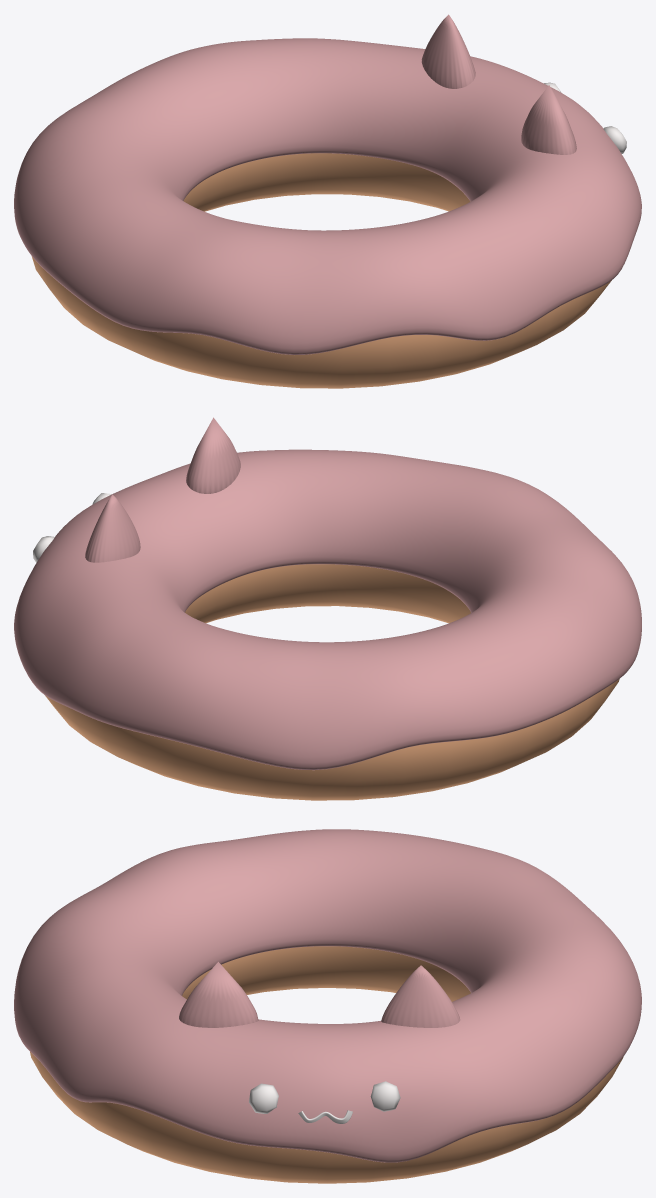
Rendered from catdonutorange2.fbx.
3 renders of one model, top to bottom at view 1: azimuth 30°, elevation 25°; view 2: azimuth 150°, elevation 25°; view 3: azimuth 270°, elevation 25°, orthographic.
Visible parts, largest first — view 1: Torus.001, Torus.003, Cone.001, Cone; view 2: Torus.001, Torus.003, Cone, Cone.001; view 3: Torus.001, Torus.003, Cone, Cone.001, Cube, Cube.001.
Boxes of the visible parts, bbox=[...] form: Torus.001: bbox=[14, 38, 641, 354]; Torus.003: bbox=[31, 153, 611, 388]; Cone.001: bbox=[421, 14, 475, 88]; Cone: bbox=[521, 85, 576, 154]; Torus.001: bbox=[14, 449, 641, 770]; Torus.003: bbox=[45, 564, 619, 800]; Cone: bbox=[186, 417, 240, 493]; Cone.001: bbox=[85, 494, 140, 562]; Torus.001: bbox=[14, 829, 641, 1162]; Torus.003: bbox=[30, 946, 623, 1183]; Cone: bbox=[179, 962, 258, 1027]; Cone.001: bbox=[381, 965, 460, 1027]; Cube: bbox=[249, 1083, 278, 1113]; Cube.001: bbox=[370, 1081, 400, 1111].
Bounding box in the file's own units: 565 × 198 × 563.
